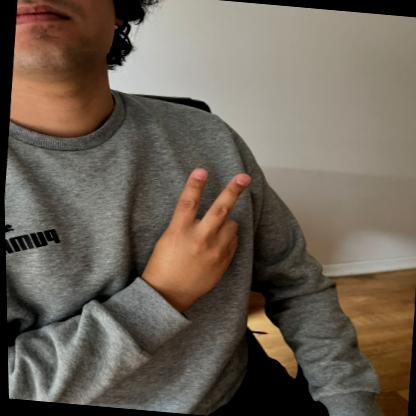V: (135, 158, 260, 320)
